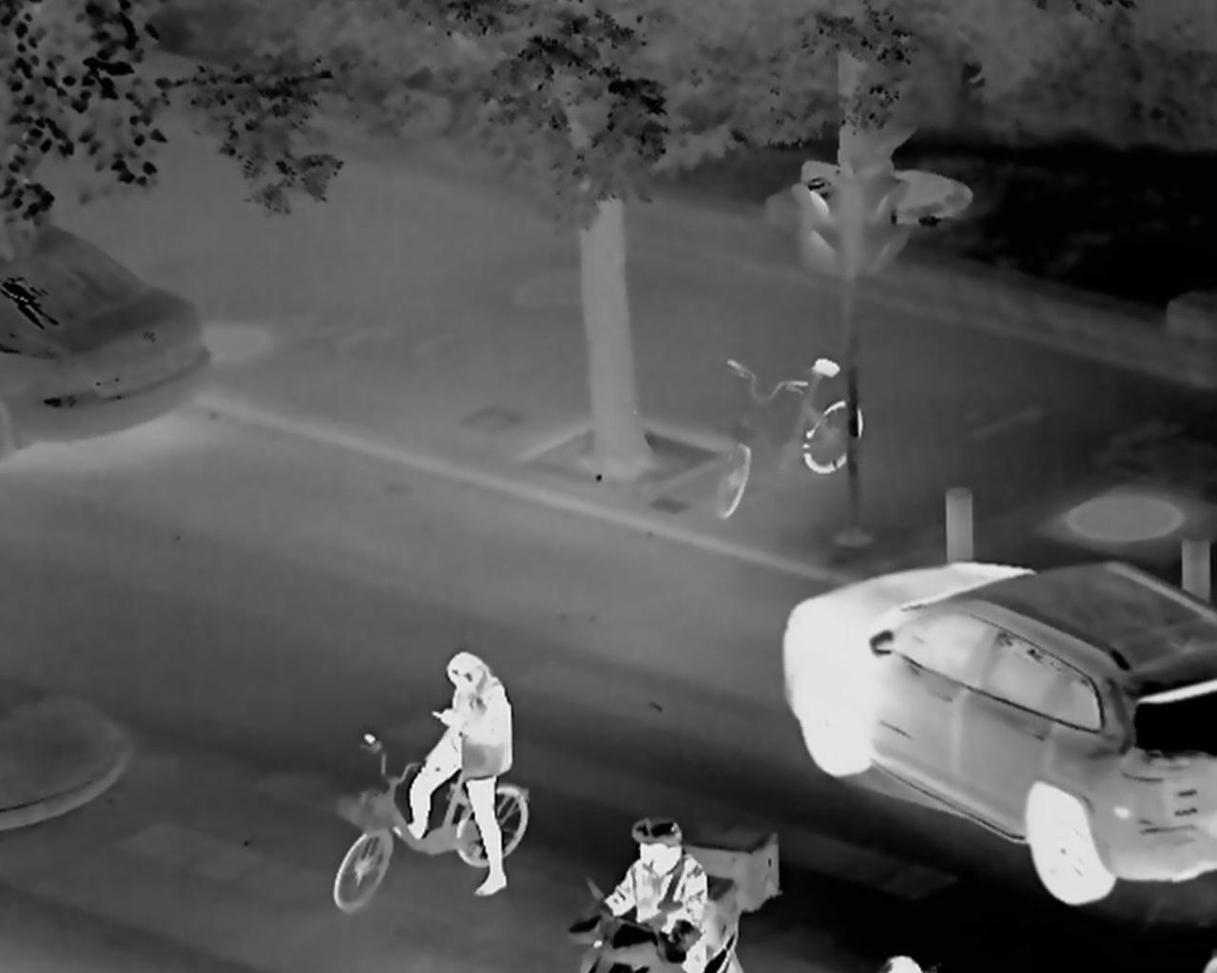person: (393, 651, 511, 901), (585, 813, 705, 973)
